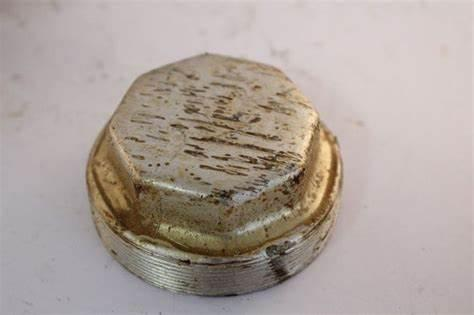metal: (87, 53, 343, 296)
